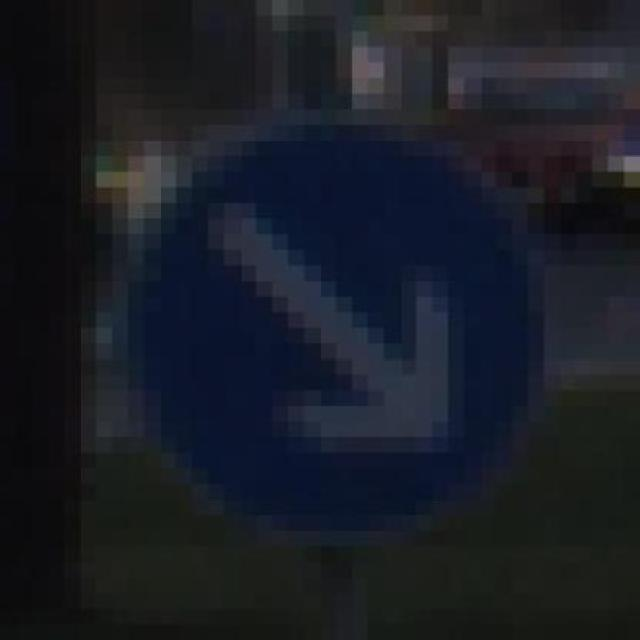Keep-Right: (112, 62, 560, 547)
